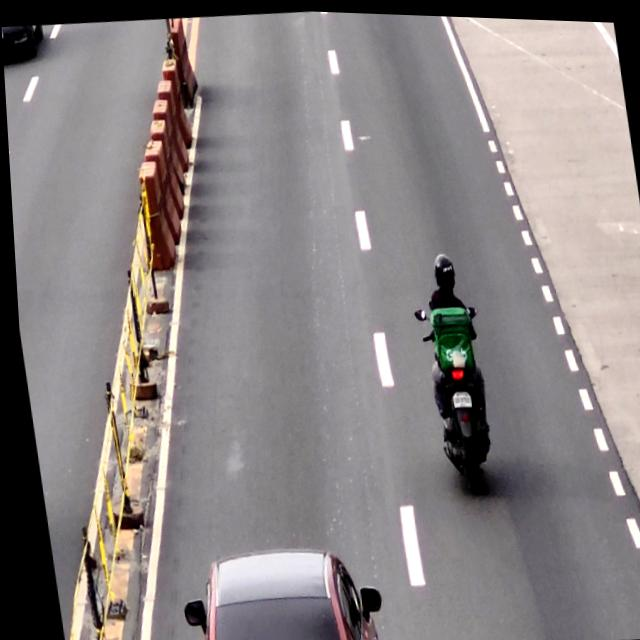Car: (165, 535, 383, 640)
License-Plate: (445, 384, 467, 406)
Motorcycle: (411, 294, 498, 499)
